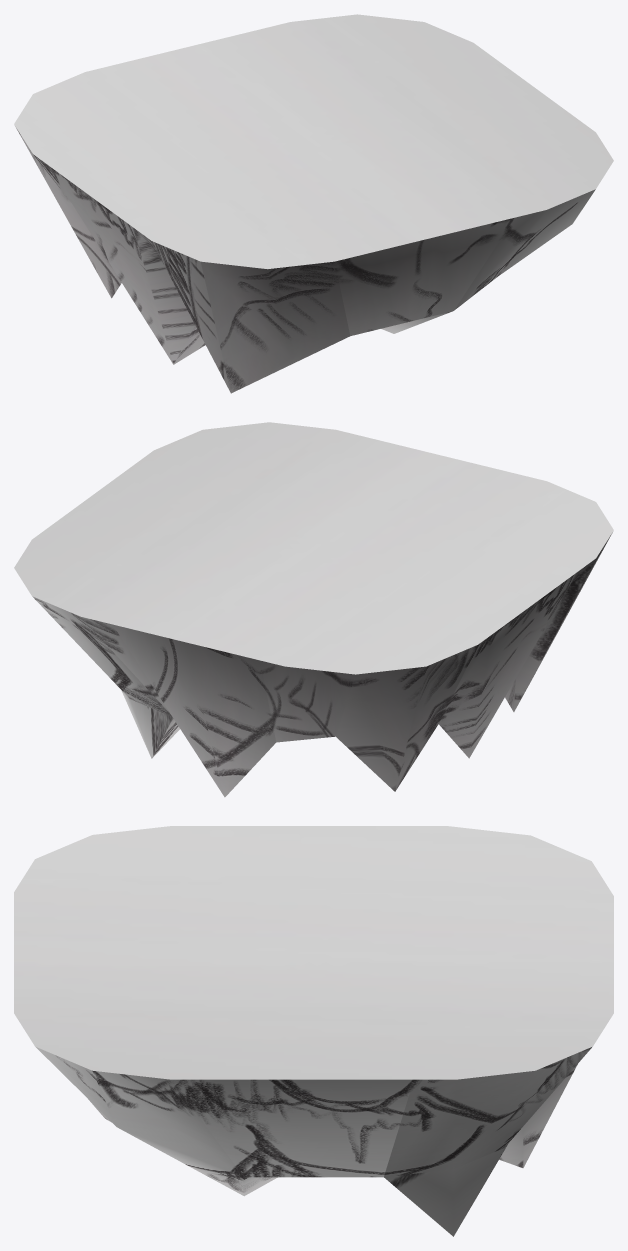
Rendered from movingplatform.fbx.
3 renders of one model, top to bottom at view 1: azimuth 30°, elevation 25°; view 2: azimuth 150°, elevation 25°; view 3: azimuth 270°, elevation 25°, orthographic. The views are drawn at different scales.
Parts seen in each view (by area): view 1: MovingPlatform; view 2: MovingPlatform; view 3: MovingPlatform.
Boxes of the visible parts, x1=… form: MovingPlatform: x1=14, y1=14, x2=613, y2=393; MovingPlatform: x1=14, y1=422, x2=613, y2=797; MovingPlatform: x1=14, y1=826, x2=613, y2=1236.
Size of the model in its own units: 400 by 166 by 400.
